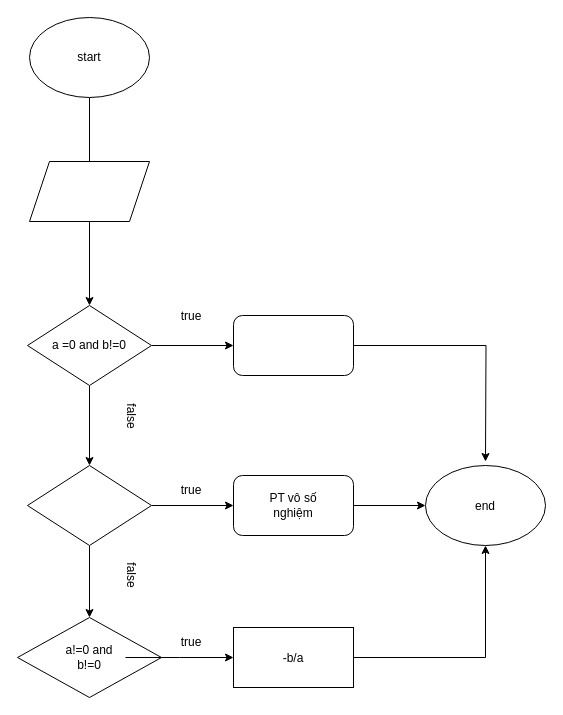
Image size: 563x715. Some labels were removed from this diagram. Here are the shapes that lost their labels. From the top down, the centre of each, then its label:
At pixel 89 191: "nhập a,b".
At pixel 293 345: "PT vô nghiệm".
At pixel 89 505: "a=0 and b=0".
